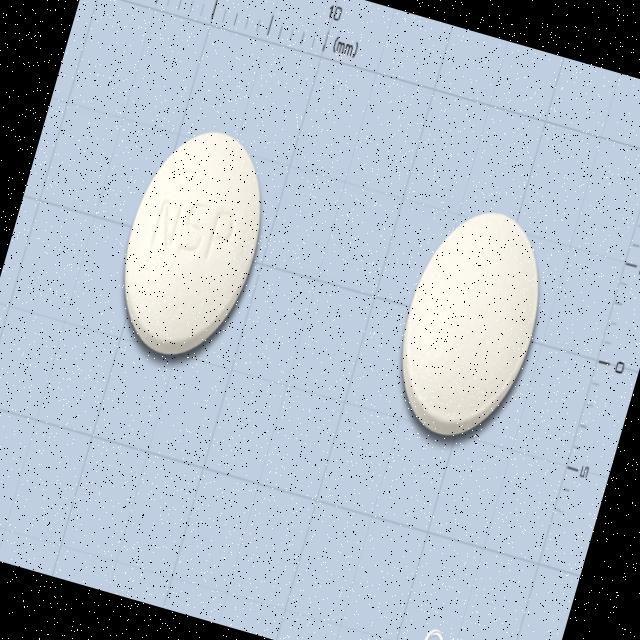Ciproctan - 500mg: (94, 111, 296, 384), (372, 188, 568, 463)
